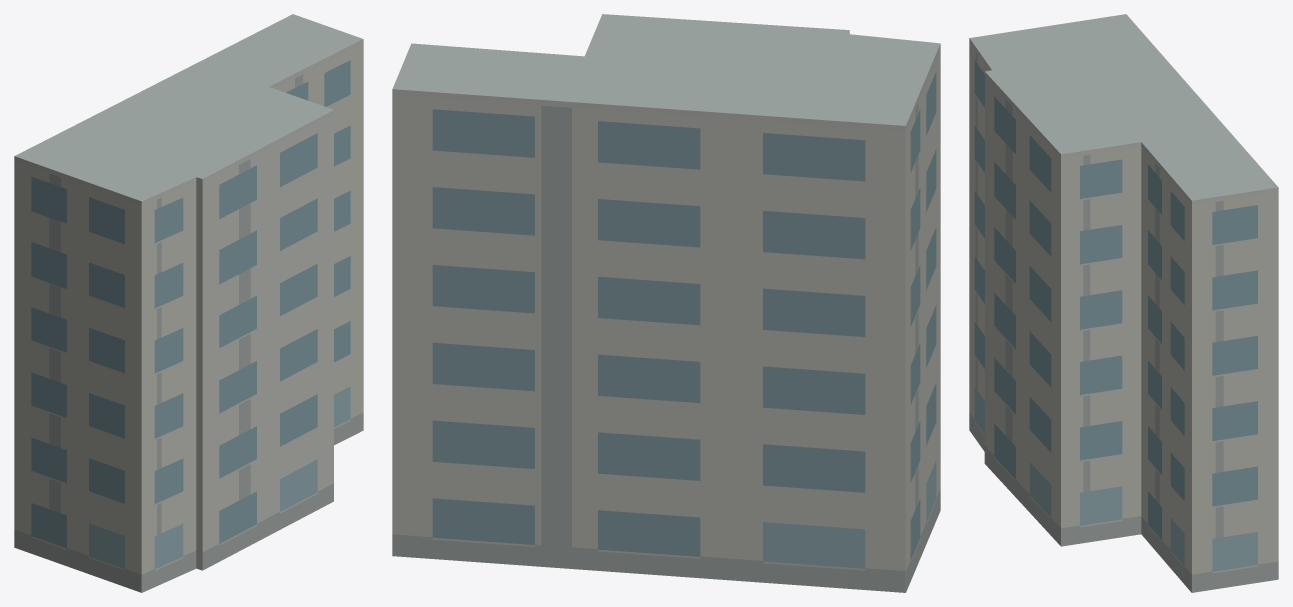
The model's file is survey-upis-32963592.glb.
3 renders of one model, left to right at view 1: azimuth 30°, elevation 25°; view 2: azimuth 150°, elevation 25°; view 3: azimuth 270°, elevation 25°, orthographic. The views are drawn at different scales.
Visible parts, largest first — view 1: survey-upis-32963592.tmp; view 2: survey-upis-32963592.tmp; view 3: survey-upis-32963592.tmp.
Boxes of the visible parts, <box> form: survey-upis-32963592.tmp: <box>14,14,363,592</box>; survey-upis-32963592.tmp: <box>392,14,940,592</box>; survey-upis-32963592.tmp: <box>969,14,1278,592</box>.
Bounding box in the file's own units: 20.1 × 19.68 × 14.07.
